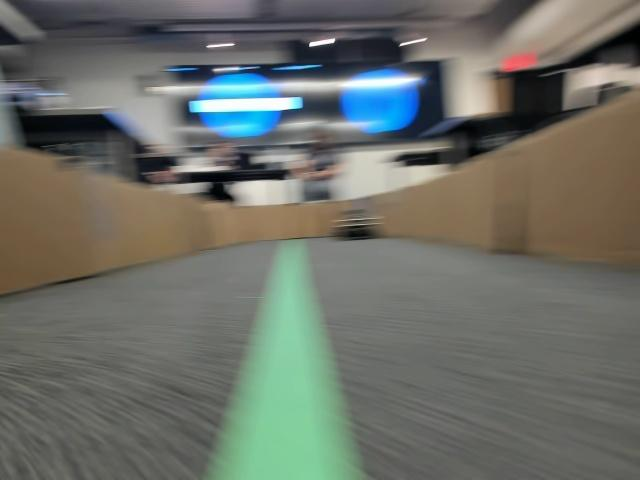Car: (331, 210, 383, 240)
